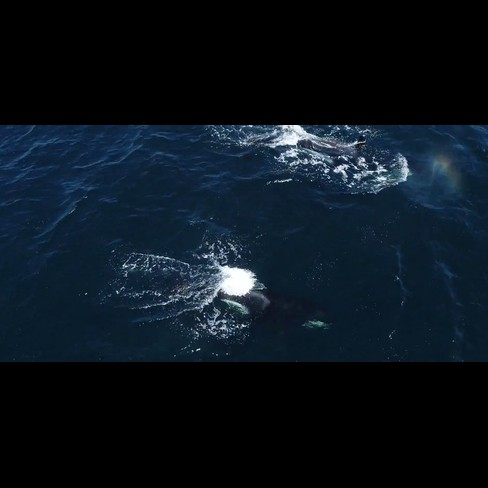orca: (147, 259, 314, 332)
